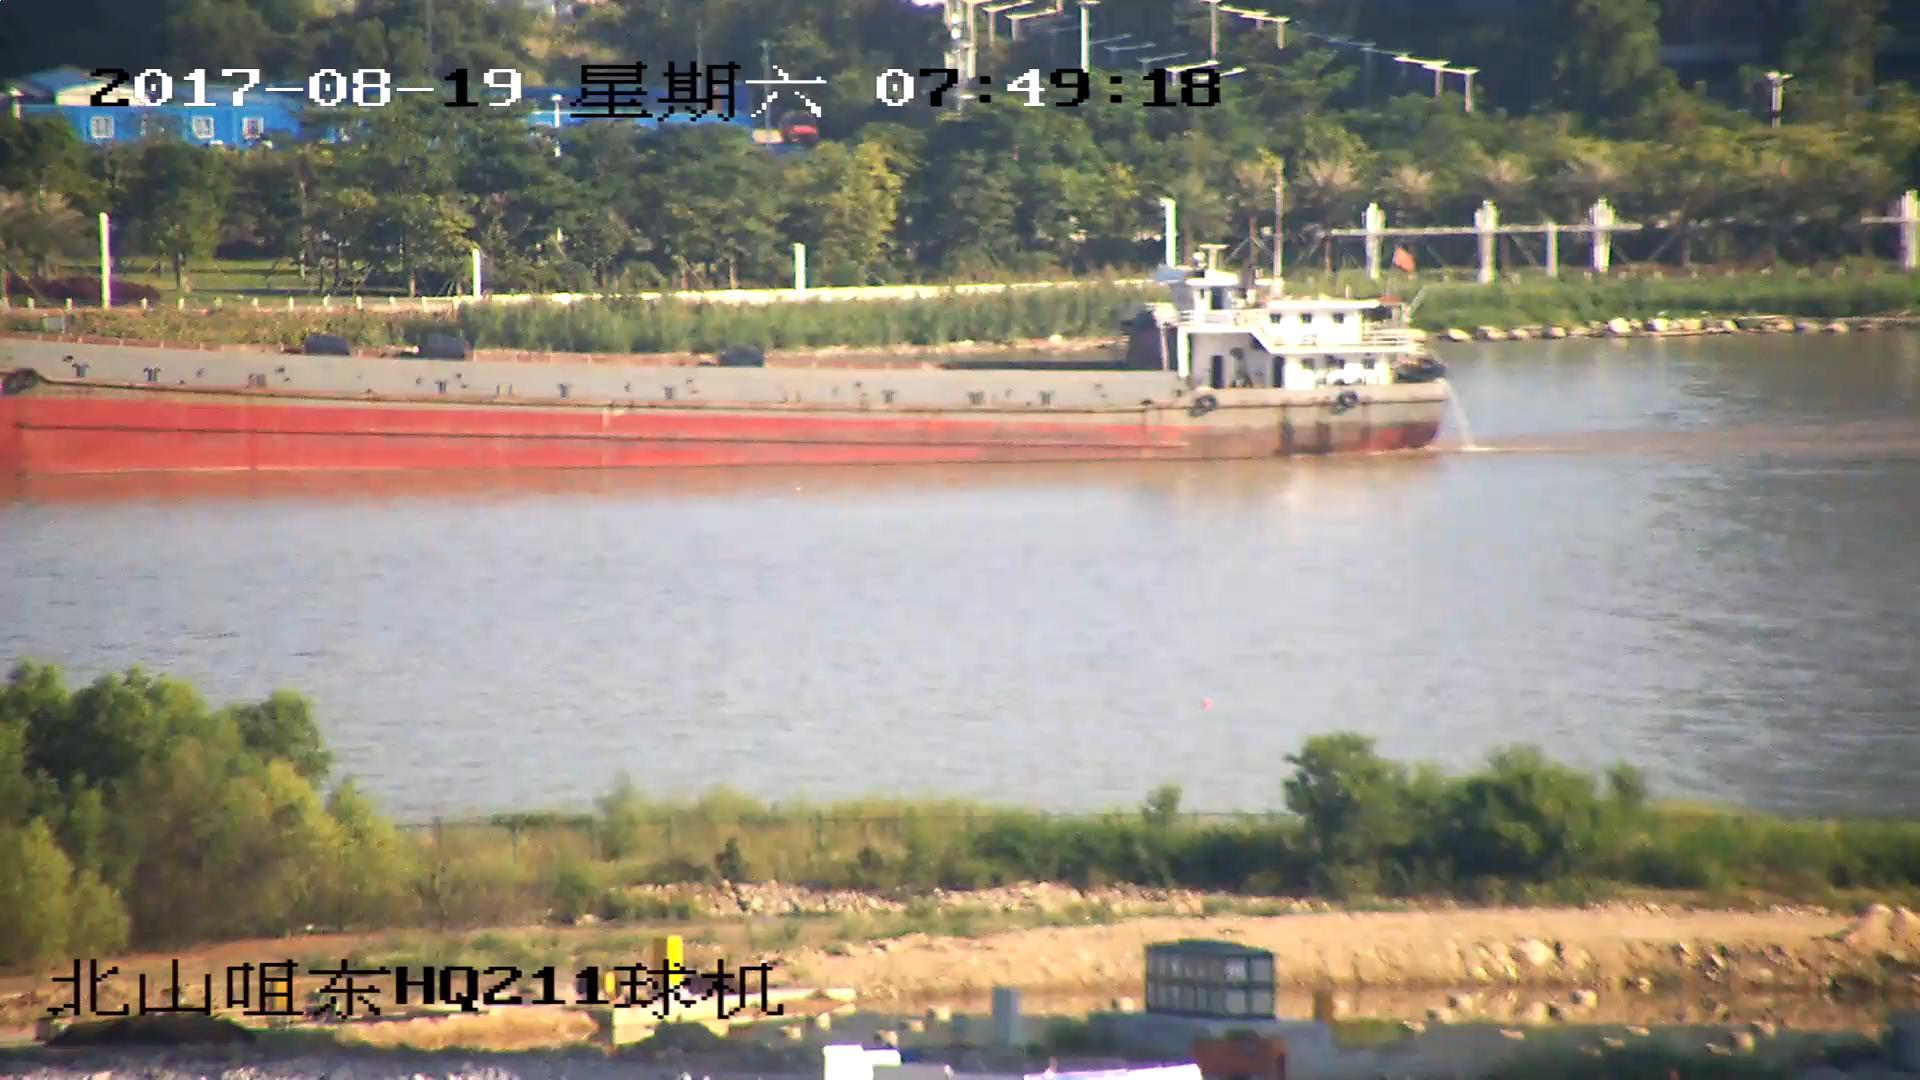Ship: (3, 251, 1452, 468)
